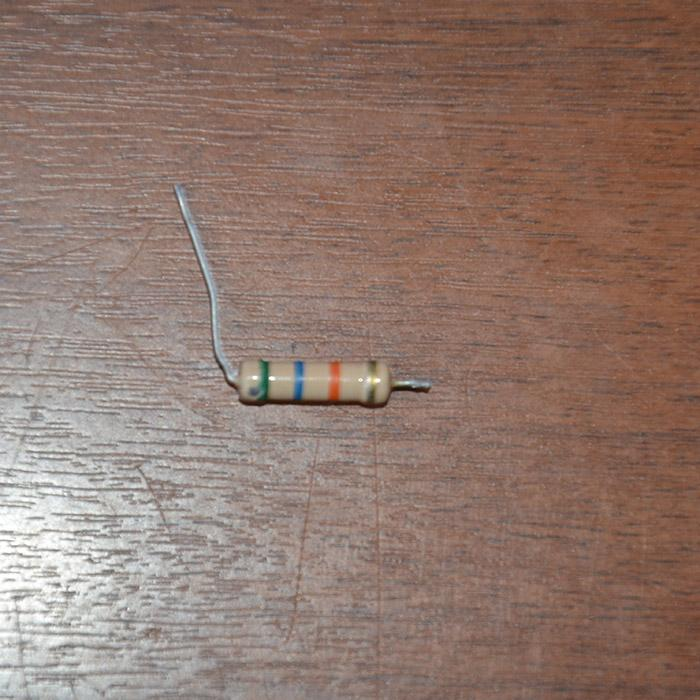resistor: (235, 357, 404, 408)
